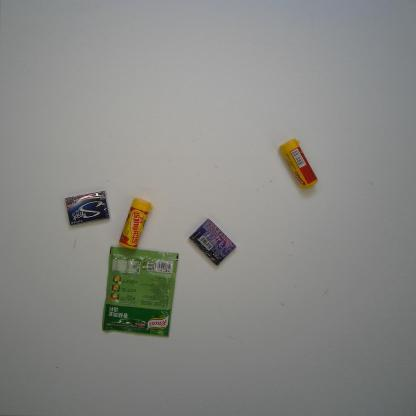Candy: (278, 137, 319, 190), (118, 197, 152, 250)
Gum: (187, 218, 236, 267), (64, 190, 109, 227)
Seasoner: (101, 246, 179, 338)
